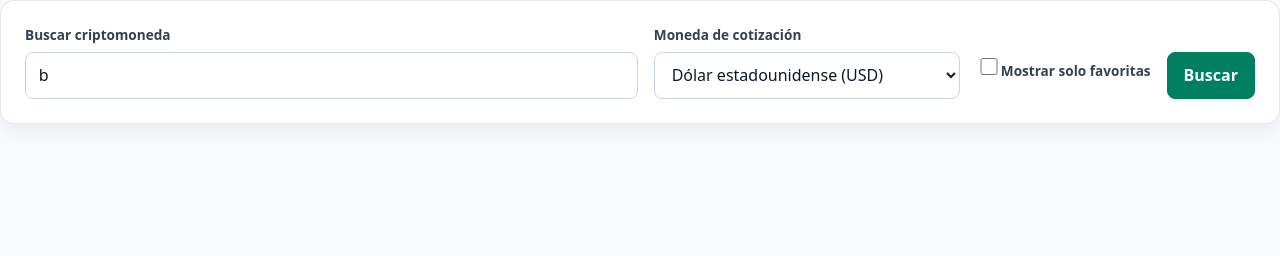
QueryControls › muestra la validación cuando la búsqueda tiene un solo carácter
The image size is (1280, 256).
Click the button "Buscar" at (1211, 75), box [1167, 52, 1255, 99]
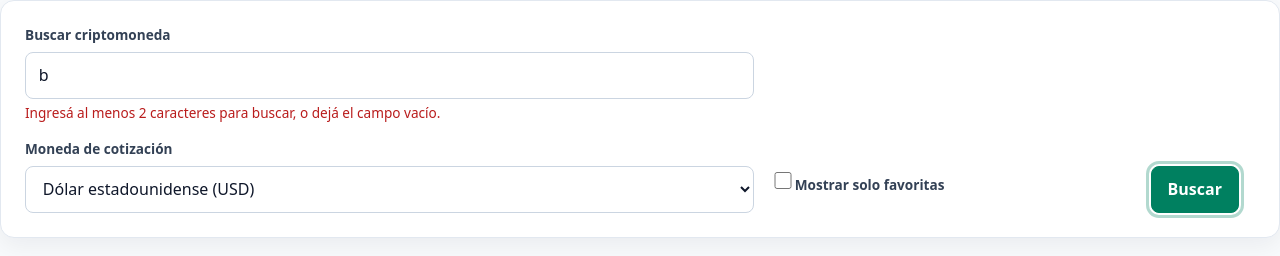
Check: the message shows "Ingresá al menos 2 caracteres", box [25, 103, 440, 122]
